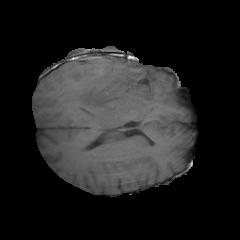glioma: (54, 63, 143, 122)
